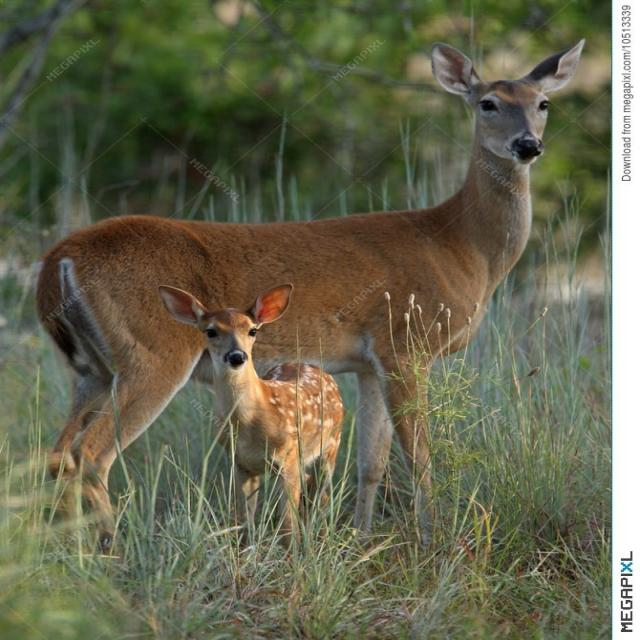not_pig: (33, 37, 584, 555), (156, 282, 344, 558)
